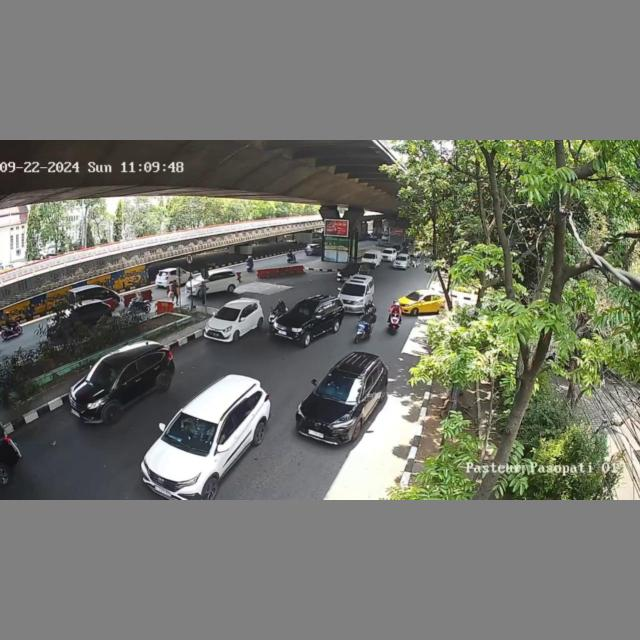windshield: (165, 412, 219, 453), (318, 371, 366, 404), (88, 362, 121, 389), (291, 303, 317, 318), (216, 307, 241, 321), (341, 284, 363, 297)
